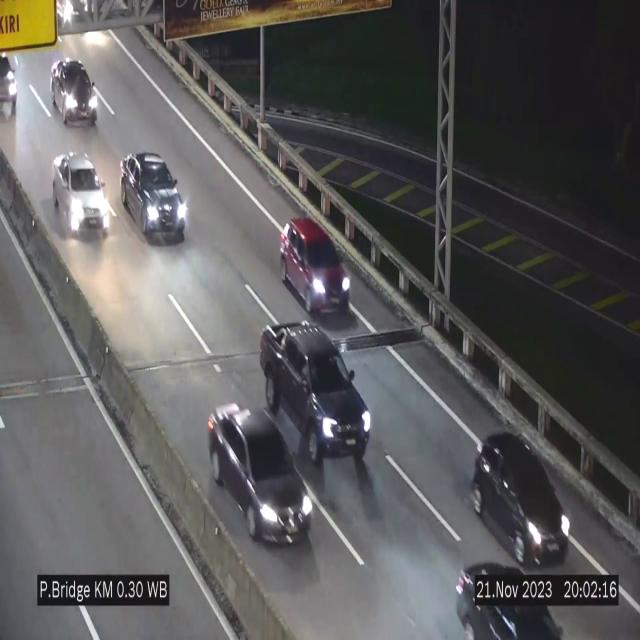Car: (261, 322, 373, 471), (210, 401, 314, 557), (472, 430, 570, 566), (280, 216, 352, 314), (120, 150, 188, 242), (52, 152, 110, 238), (48, 58, 100, 130)
